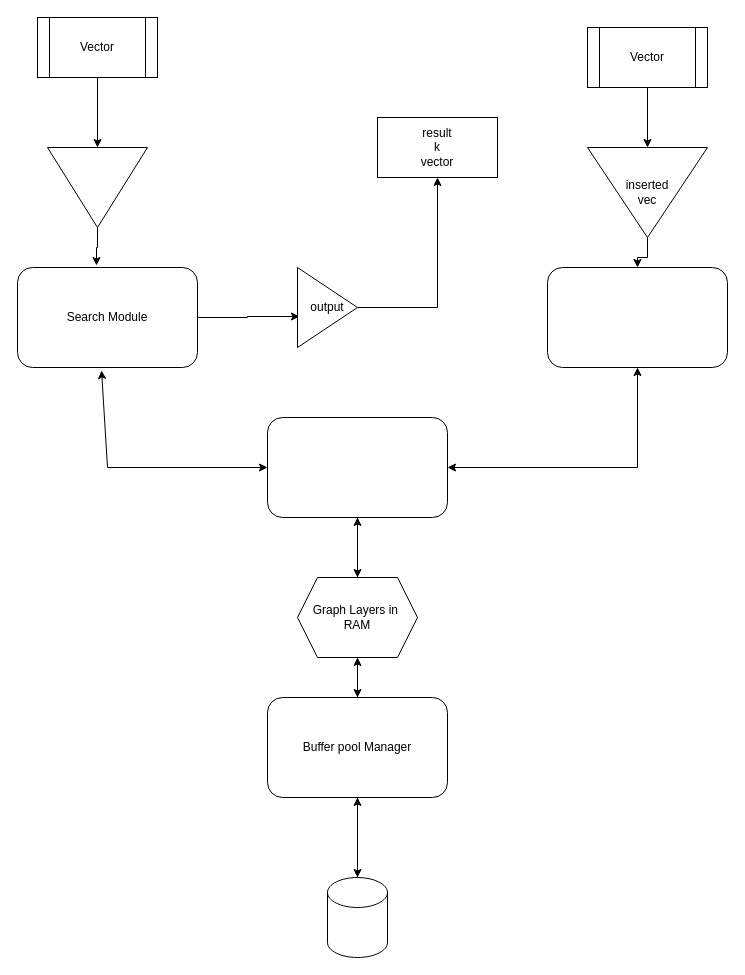
Image size: 745x975. Some labels were removed from this diagram. The centre of each missing label's shape, as x and y in pixels:
"HSNW DISK" goes at point (357, 917).
"Insertion Module" goes at point (637, 317).
"Memory Manager" goes at point (357, 467).
"search query" goes at point (97, 187).
